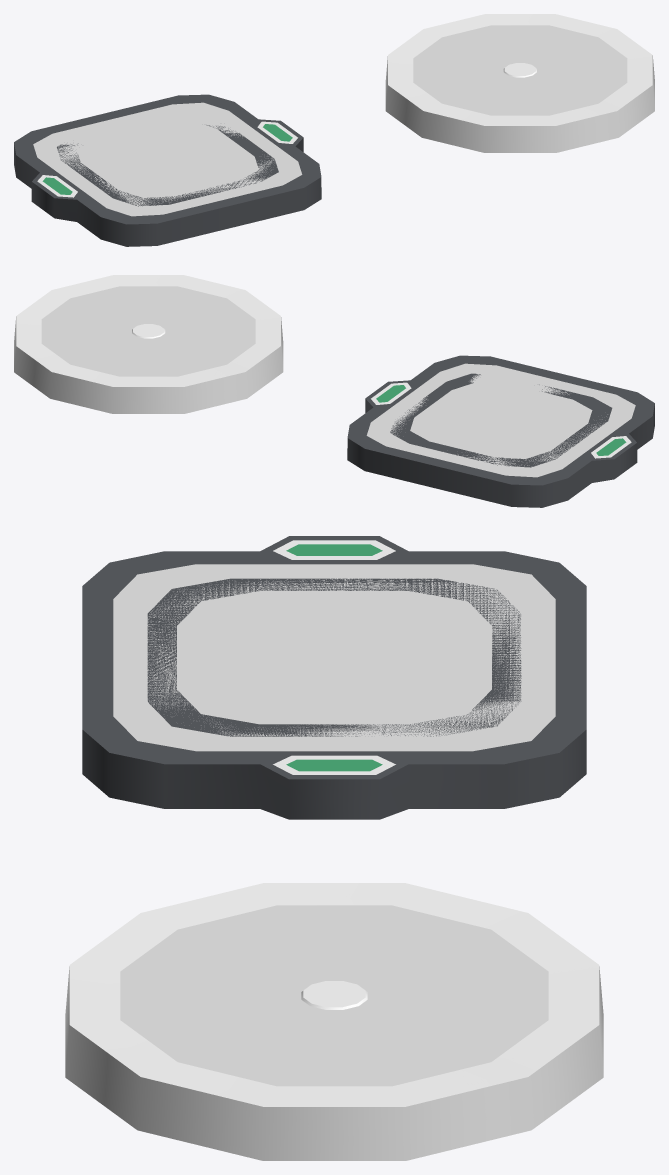
The model's file is Vent&Scrubber.fbx.
3 renders of one model, top to bottom at view 1: azimuth 30°, elevation 25°; view 2: azimuth 150°, elevation 25°; view 3: azimuth 270°, elevation 25°, orthographic. The views are drawn at different scales.
Visible parts, largest first — view 1: FloorVent, FloorScrubber; view 2: FloorVent, FloorScrubber; view 3: FloorVent, FloorScrubber.
Part boxes in pixels (bbox=[...]): FloorVent: bbox=[14, 94, 321, 246]; FloorScrubber: bbox=[385, 14, 654, 152]; FloorVent: bbox=[347, 355, 654, 507]; FloorScrubber: bbox=[14, 275, 283, 413]; FloorVent: bbox=[82, 536, 586, 819]; FloorScrubber: bbox=[65, 883, 603, 1160].
Size of the model in its own units: 1.68 by 0.0762 by 0.6614.
